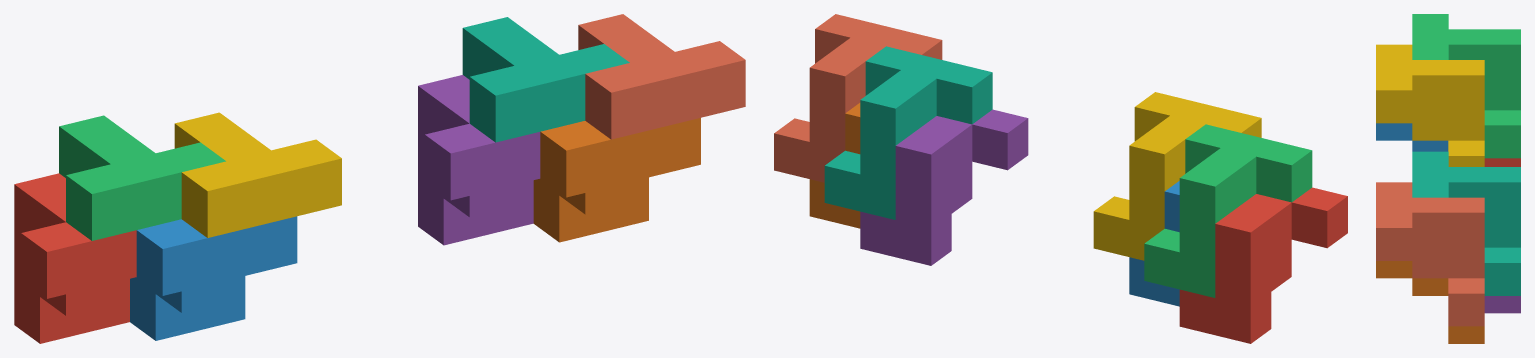
The model's file is tiling.obj.
3 renders of one model, left to right at view 1: azimuth 30°, elevation 25°; view 2: azimuth 150°, elevation 25°; view 3: azimuth 270°, elevation 25°, orthographic. The views are drawn at different scales.
Parts seen in each view (by area): view 1: copy_1_domain_1, copy_1_domain_5, copy_1_domain_2, copy_1_domain_6, copy_1_domain_4, copy_1_domain_8, copy_1_domain_7, copy_1_domain_3; view 2: copy_1_domain_3, copy_1_domain_7, copy_1_domain_5, copy_1_domain_1, copy_1_domain_4, copy_1_domain_8, copy_1_domain_6, copy_1_domain_2; view 3: copy_1_domain_8, copy_1_domain_4, copy_1_domain_7, copy_1_domain_3, copy_1_domain_6, copy_1_domain_2, copy_1_domain_5, copy_1_domain_1.
Boxes of the visible parts, x1,y1,x2,y2 form: copy_1_domain_1: (14,173,136,343); copy_1_domain_5: (418,75,540,245); copy_1_domain_2: (130,216,297,340); copy_1_domain_6: (533,118,700,242); copy_1_domain_4: (174,112,341,237); copy_1_domain_8: (578,14,745,139); copy_1_domain_7: (462,17,629,142); copy_1_domain_3: (59,115,225,240); copy_1_domain_3: (1144,124,1312,297); copy_1_domain_7: (824,46,992,219); copy_1_domain_5: (860,109,1028,265); copy_1_domain_1: (1179,187,1347,343); copy_1_domain_4: (1093,92,1261,260); copy_1_domain_8: (774,14,942,182); copy_1_domain_6: (809,103,860,228); copy_1_domain_2: (1129,181,1179,306); copy_1_domain_8: (1376,182,1484,326); copy_1_domain_4: (1376,44,1484,166); copy_1_domain_7: (1412,151,1520,295); copy_1_domain_3: (1412,14,1520,158); copy_1_domain_6: (1376,261,1484,343); copy_1_domain_2: (1376,123,1448,151); copy_1_domain_5: (1484,296,1520,313); copy_1_domain_1: (1484,158,1520,166).
Bounding box in the file's own units: 15 × 4 × 4.
